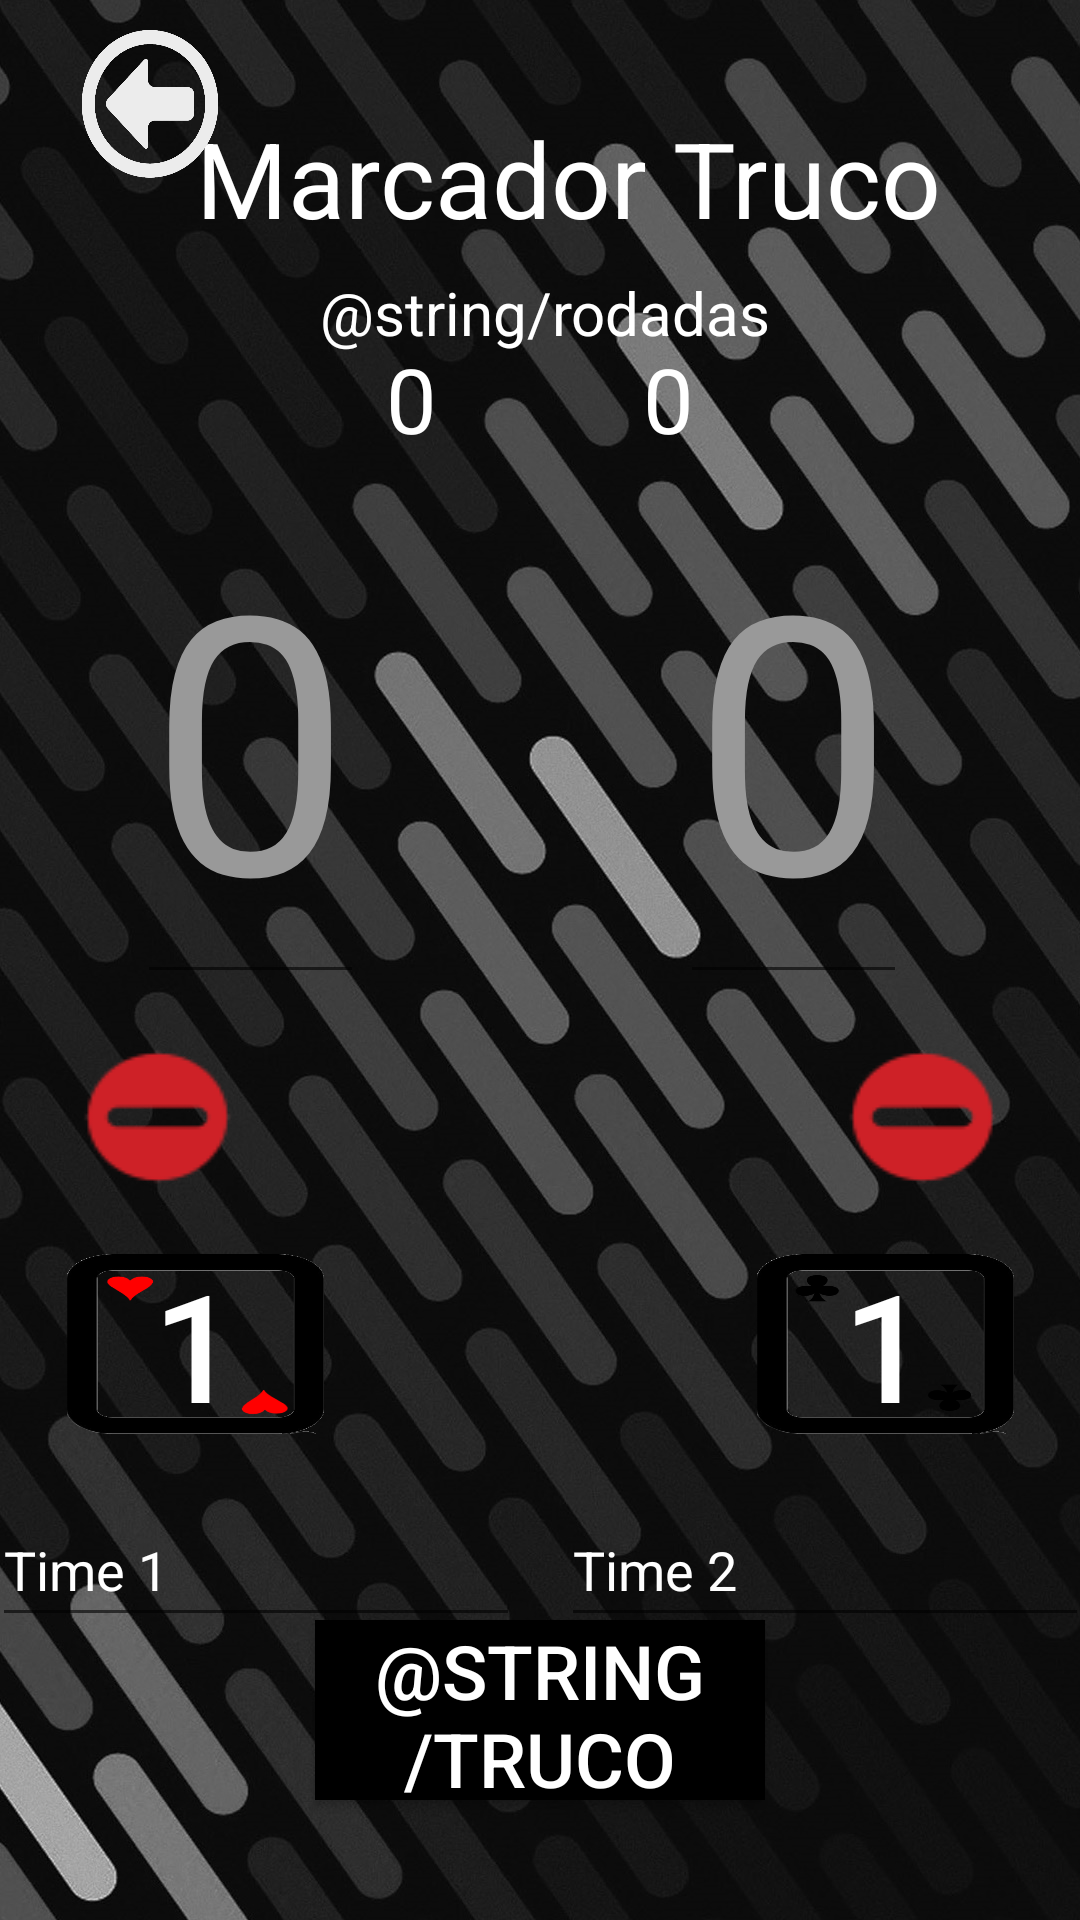

Icon bounding boxes for this 1080×1920 phone screenshot, format rect(x1, y1, x2, y2):
botao menos: rect(75, 1042, 240, 1192), rect(840, 1042, 1005, 1192)
